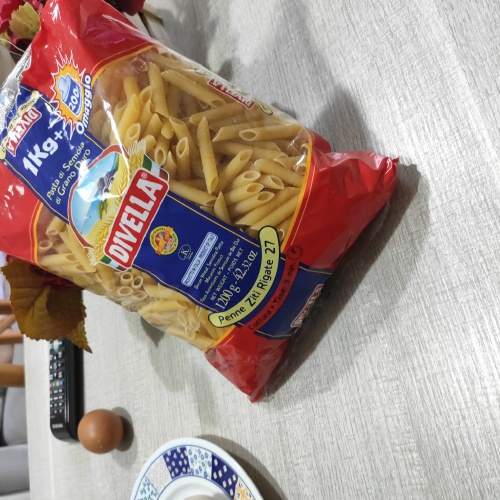pasta: (25, 26, 341, 376)
